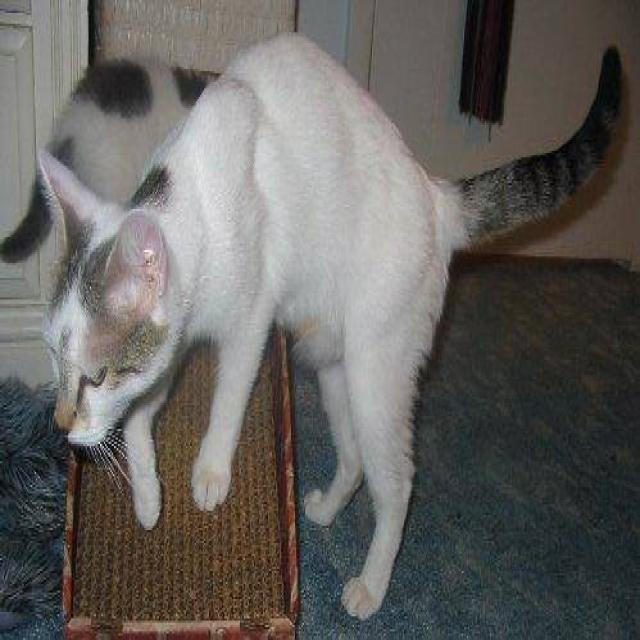cat: (1, 28, 624, 621)
